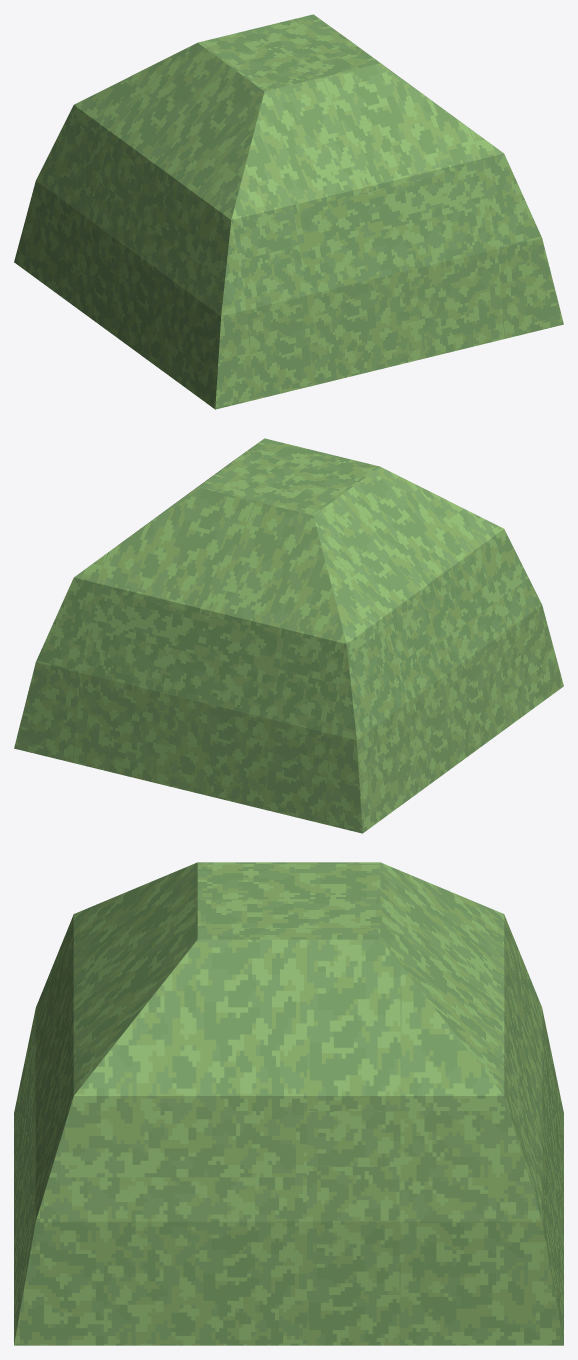
The model's file is ArbustoGreciaTipoC.fbx.
3 renders of one model, top to bottom at view 1: azimuth 30°, elevation 25°; view 2: azimuth 150°, elevation 25°; view 3: azimuth 270°, elevation 25°, orthographic. The views are drawn at different scales.
Parts seen in each view (by area): view 1: Arbusto Griego ver3; view 2: Arbusto Griego ver3; view 3: Arbusto Griego ver3.
Boxes of the visible parts, x1,y1,x2,y2 form: Arbusto Griego ver3: (14, 14, 563, 409); Arbusto Griego ver3: (14, 438, 563, 833); Arbusto Griego ver3: (14, 862, 563, 1345).
Bounding box in the file's own units: 6.02 × 3.97 × 6.02.
